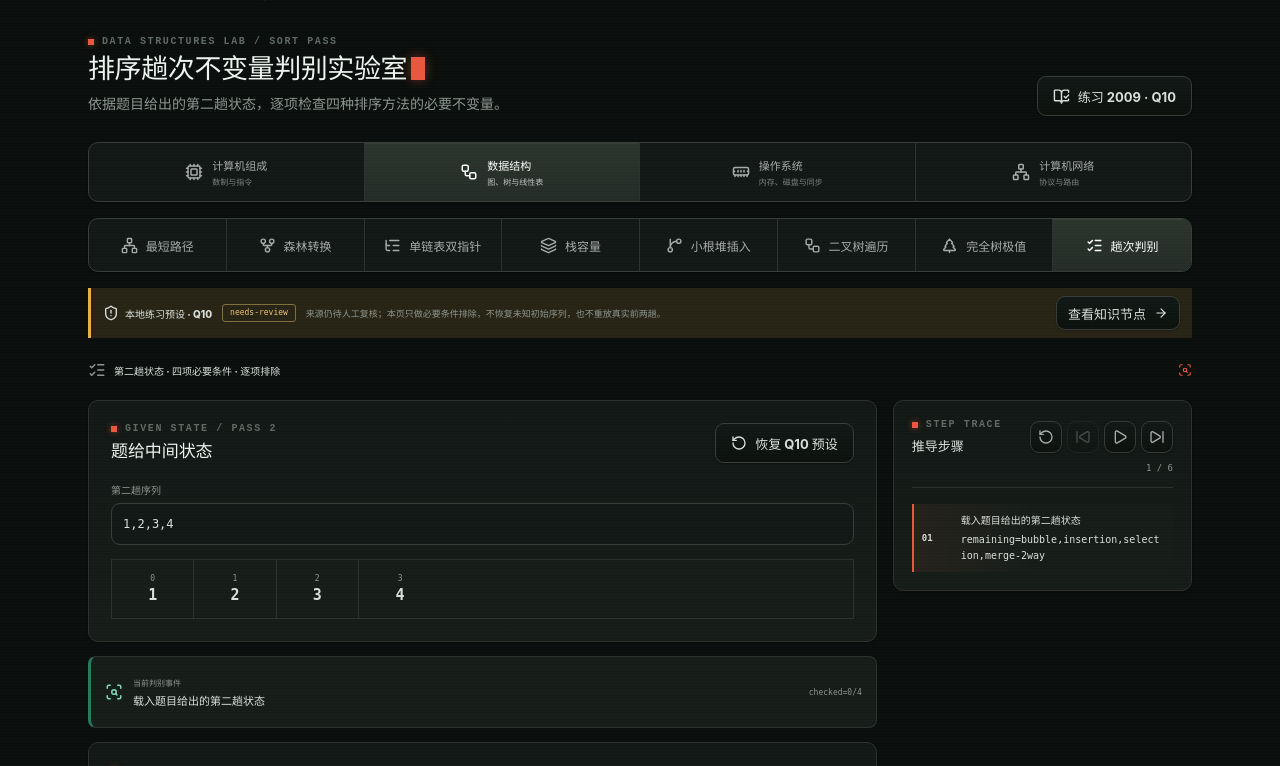
Scenario: SortPassAnalysisLabPage › derives a custom completion from its own trace instead of projecting the Q10 answer
Click the button named "下一步".
click(1157, 438)  # box [1141,422,1173,454]
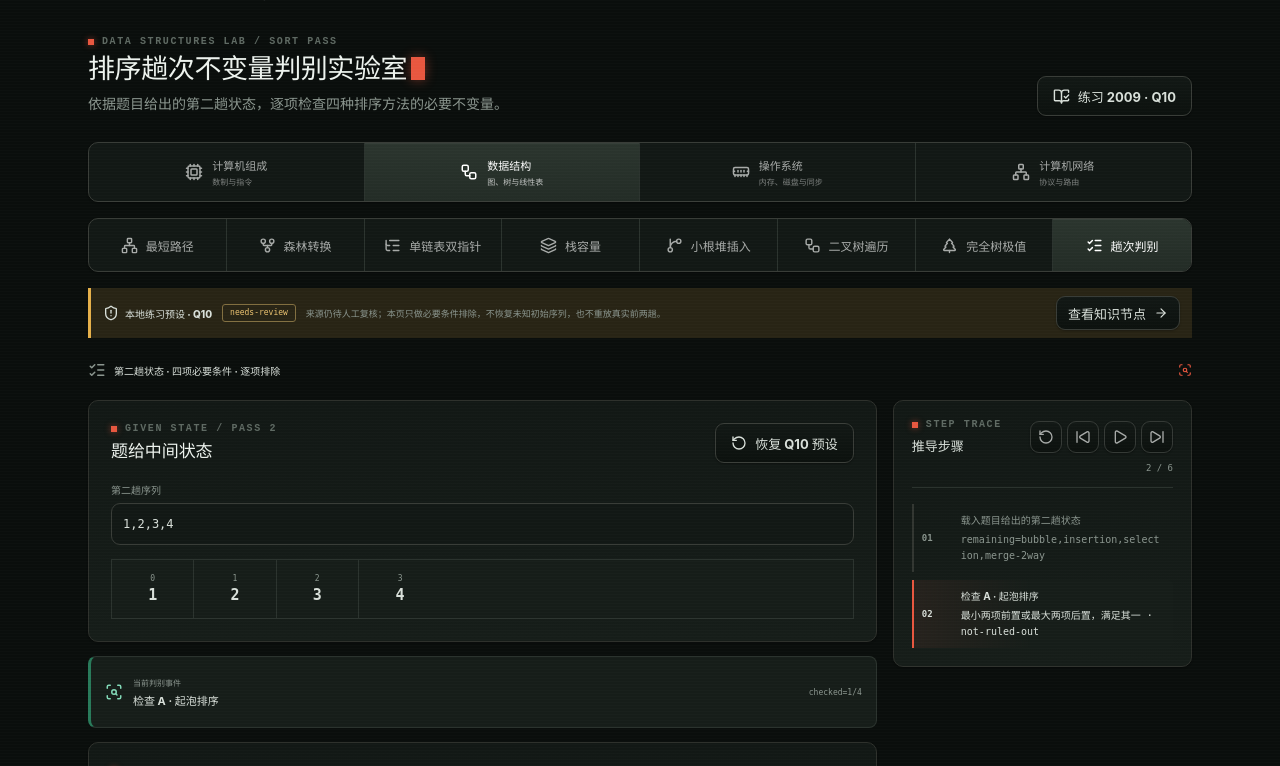
Click the button named "下一步".
click(1157, 438)  # box [1141,422,1173,454]
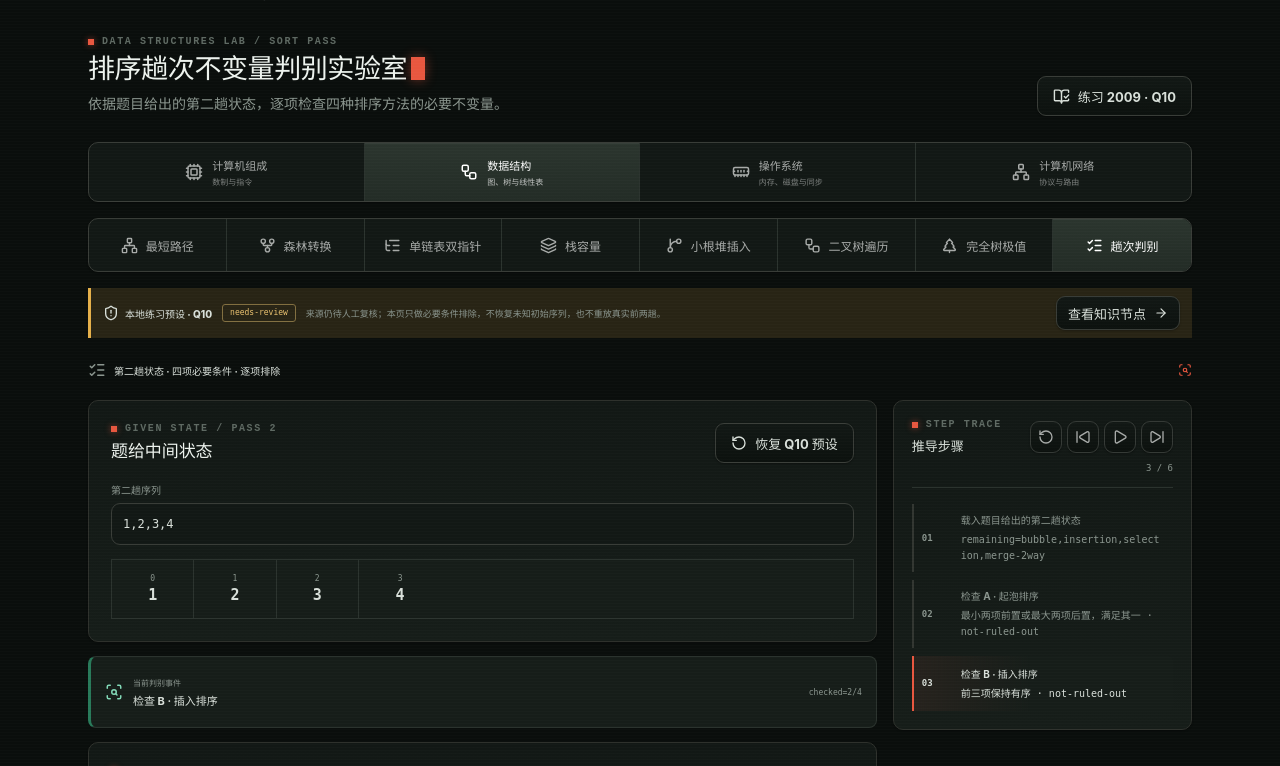
Click the button named "下一步".
click(1157, 438)  # box [1141,422,1173,454]
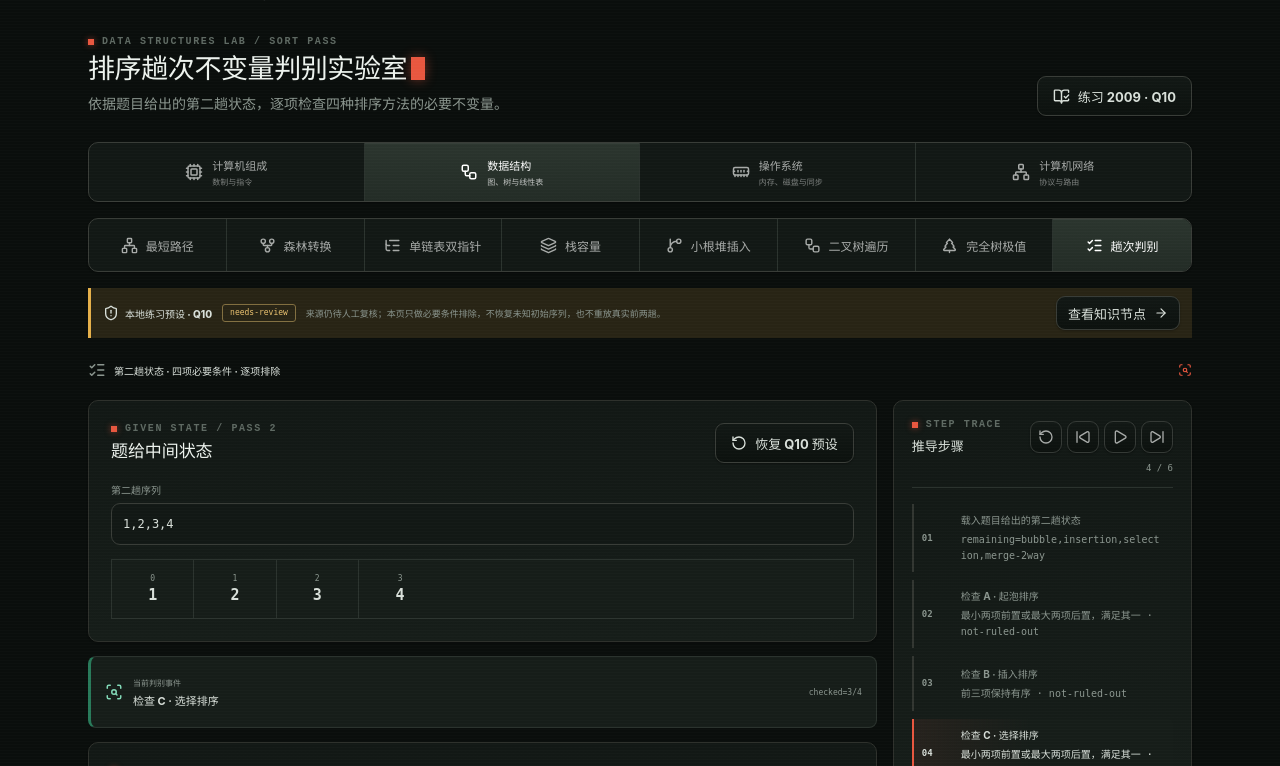
Click the button named "下一步".
click(1157, 438)  # box [1141,422,1173,454]
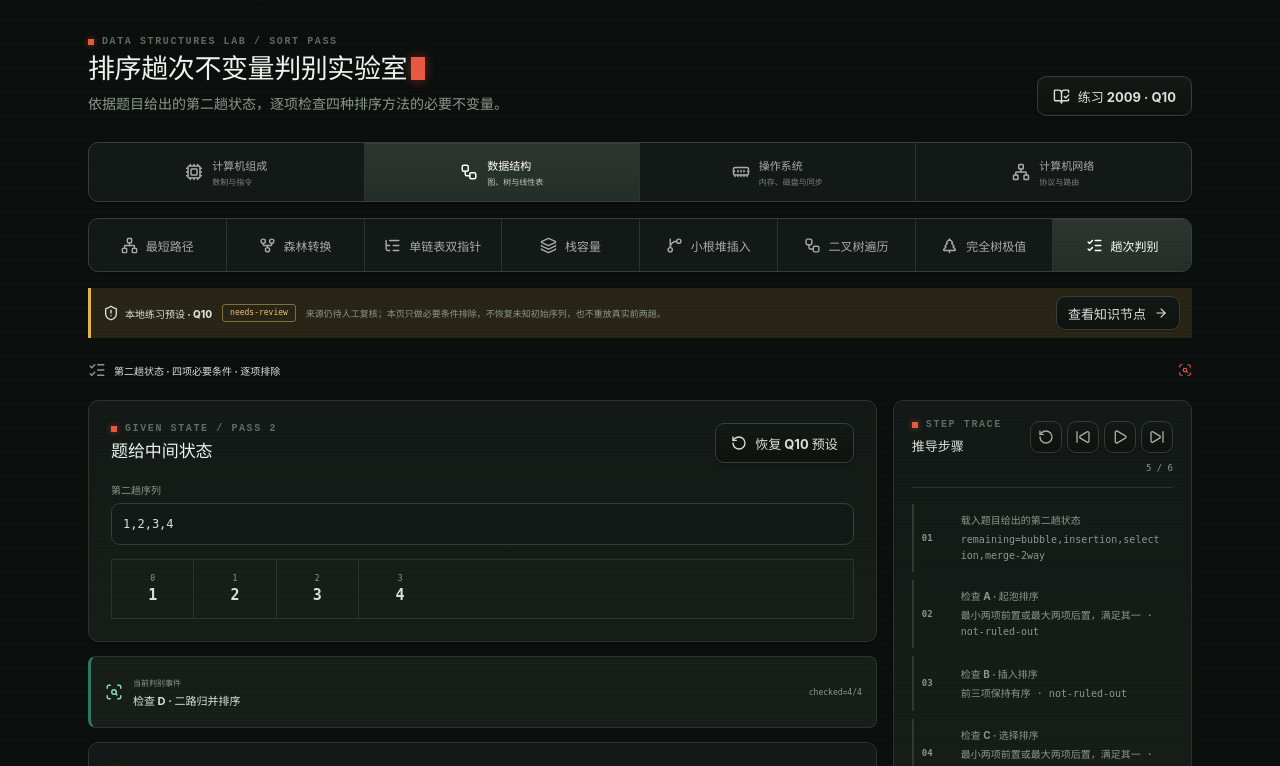
Click the button named "下一步".
click(1157, 438)  # box [1141,422,1173,454]
(page scrolled)
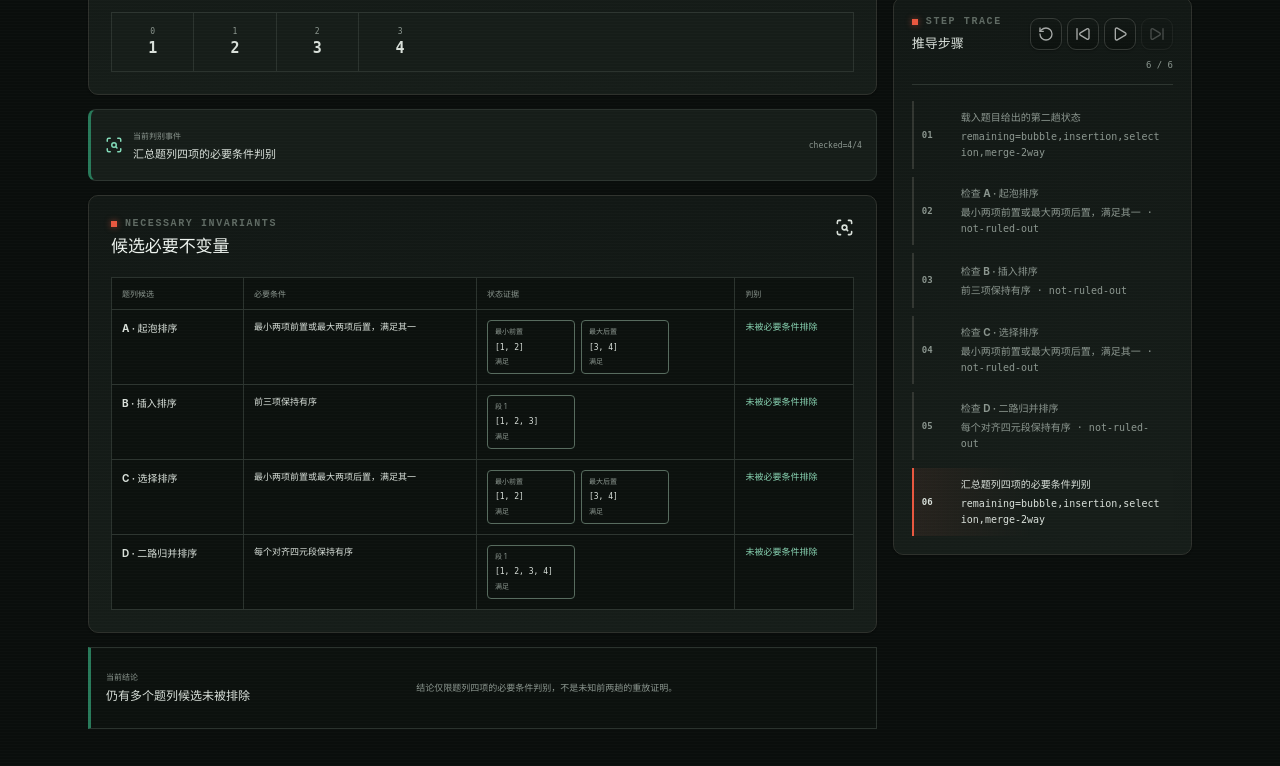
expect the element named "当前判别结论" does not show "仅 B": met, box [88,647,877,729]
expect the element named "当前判别结论" shows "仍有多个题列候选未被排除": met, box [106,688,250,703]
